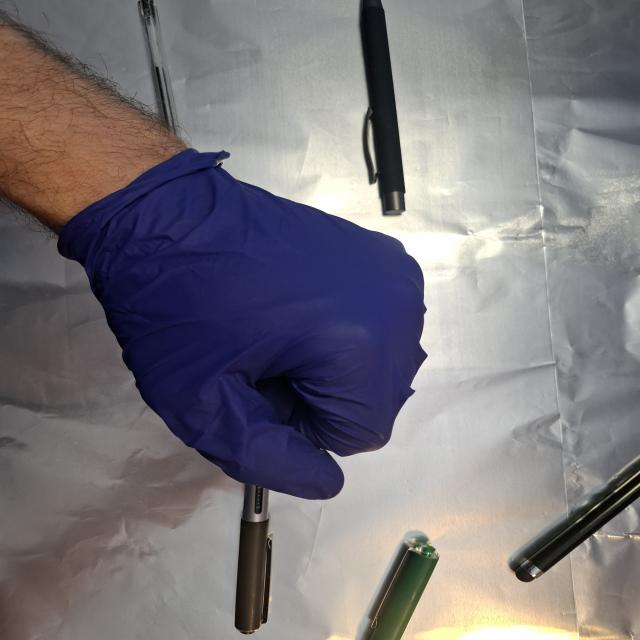glove_on: (60, 151, 432, 504)
